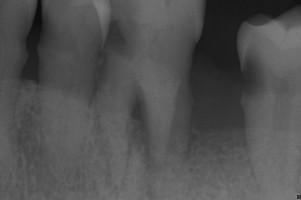Dental Caries: (130, 90, 157, 200)
